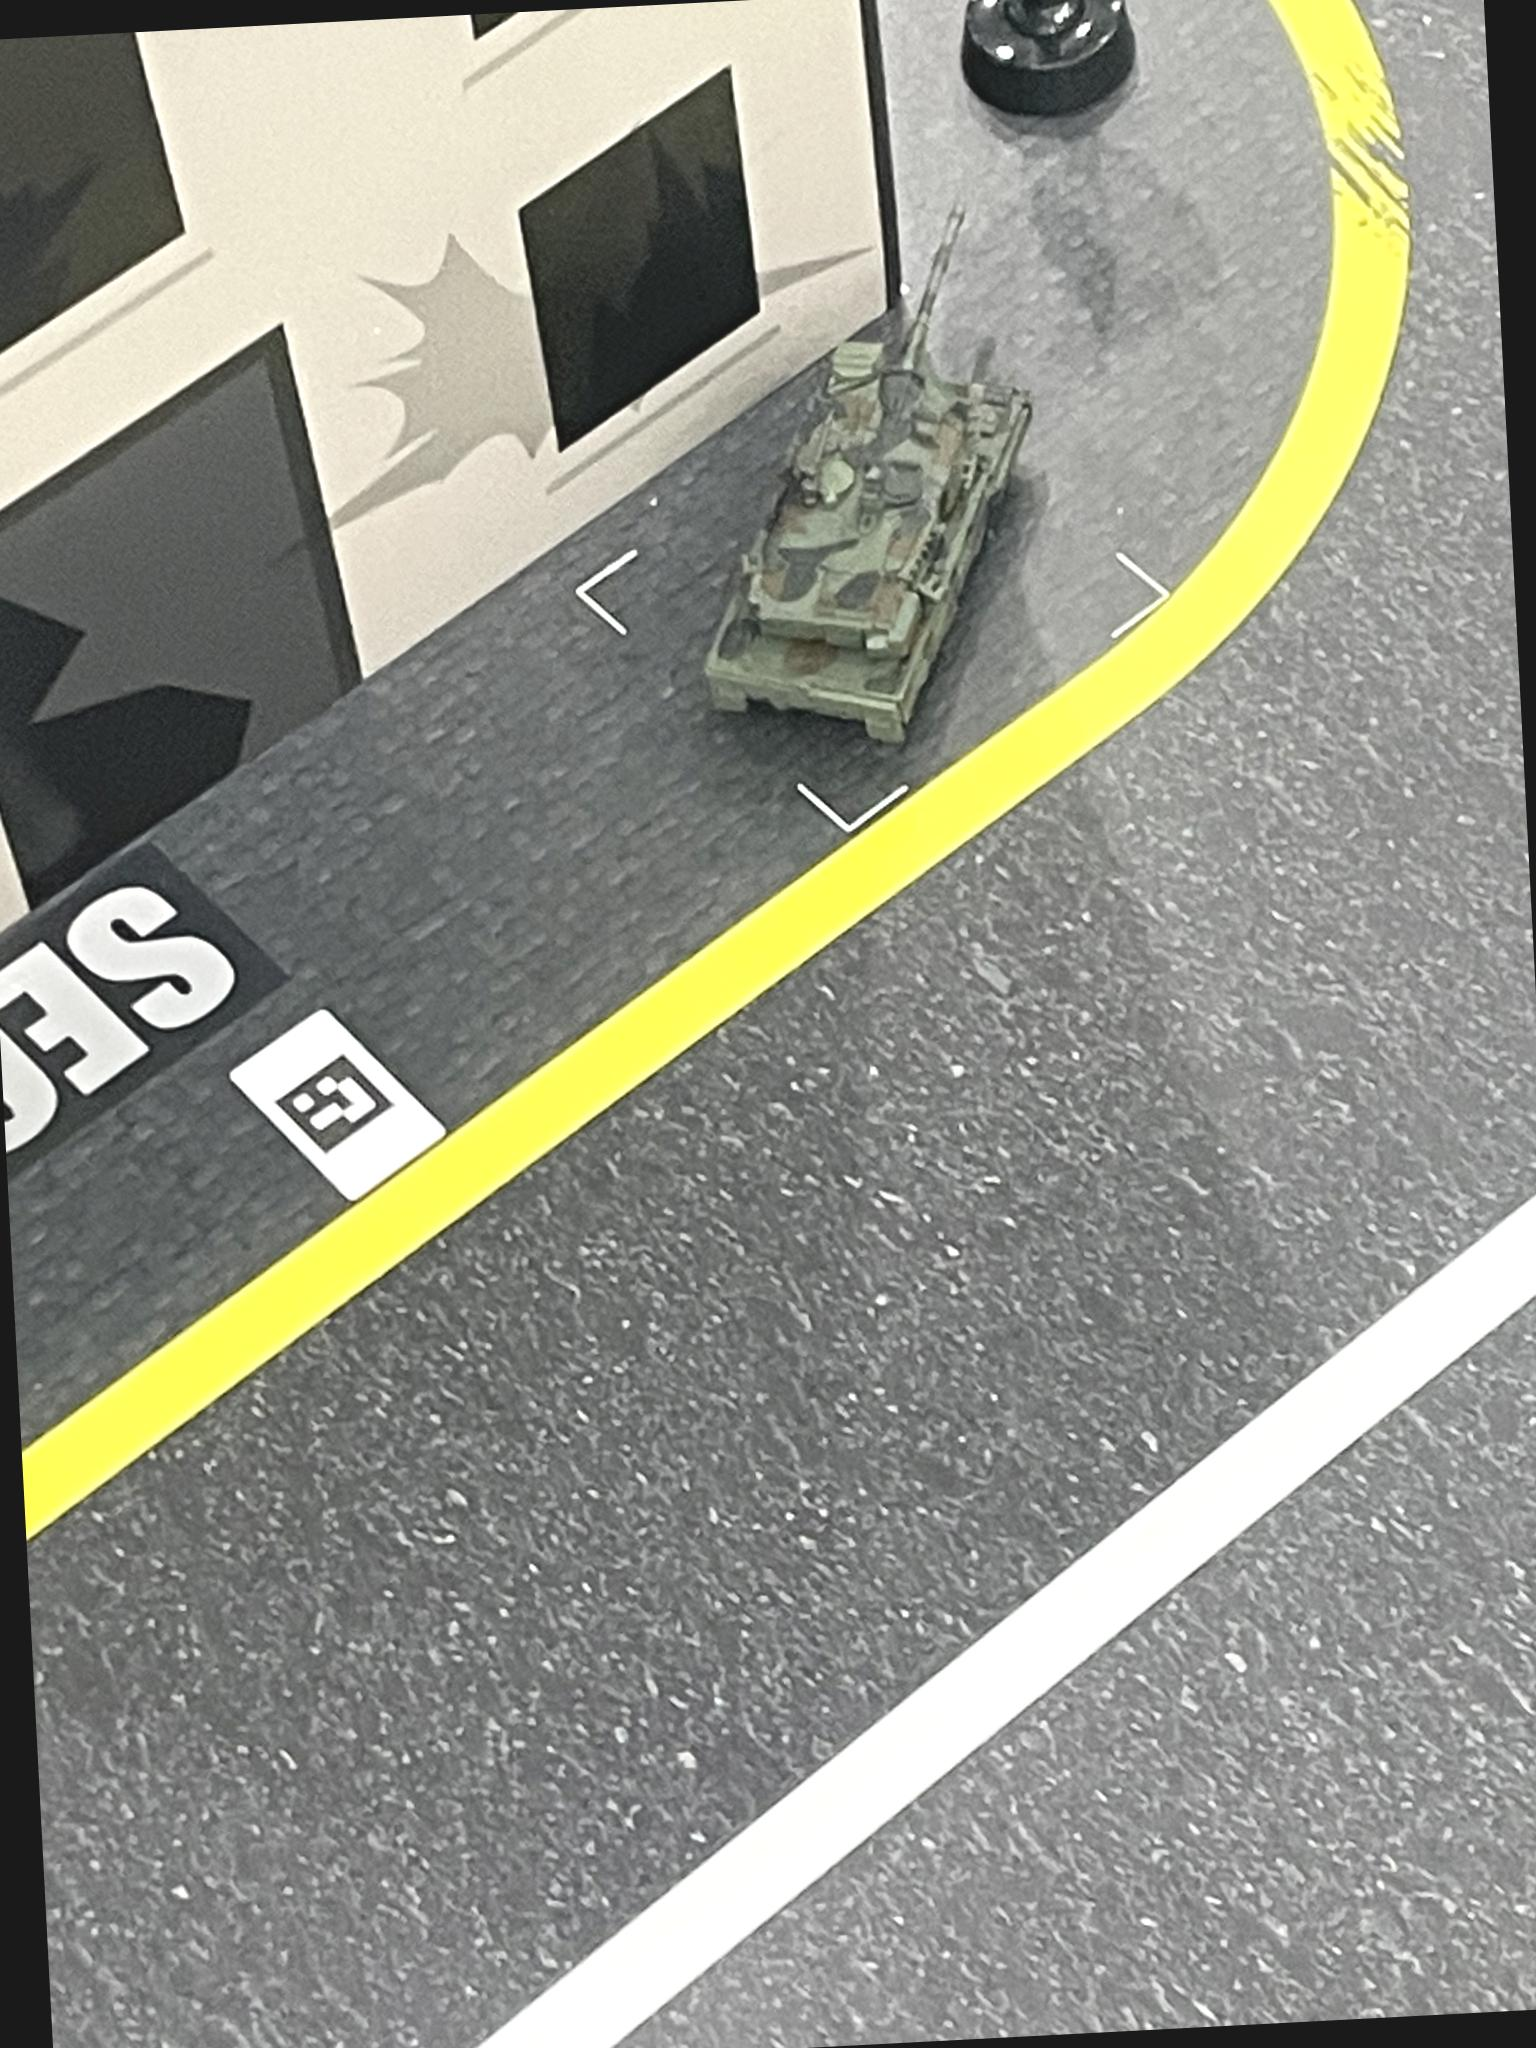Tank: (681, 182, 1050, 769)
